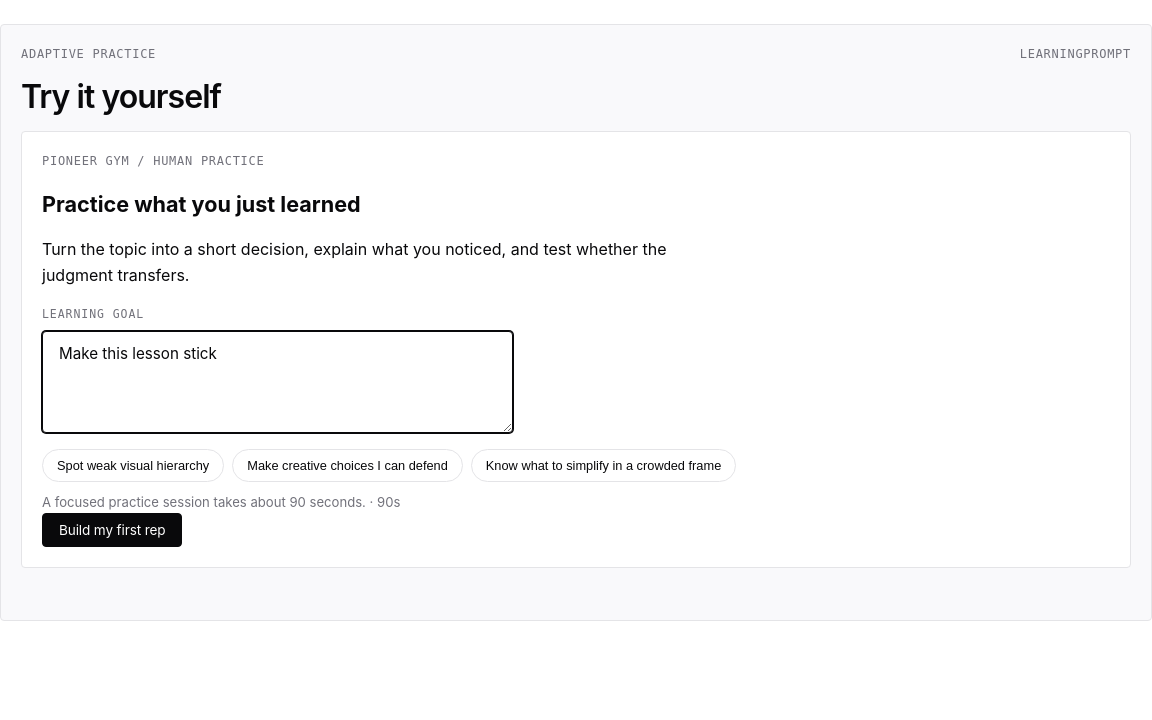
it: NovelGymPanel › renders the canonical SafeExerciseFallback command locally
Expected: the text box labelled "Learning goal" holds "Make this lesson stick", [42,331,513,433]
What coordinates should you click on to do the following:
click the button "Build my first rep"
I would click on:
 (112, 530)
Its box is [42,513,182,547].
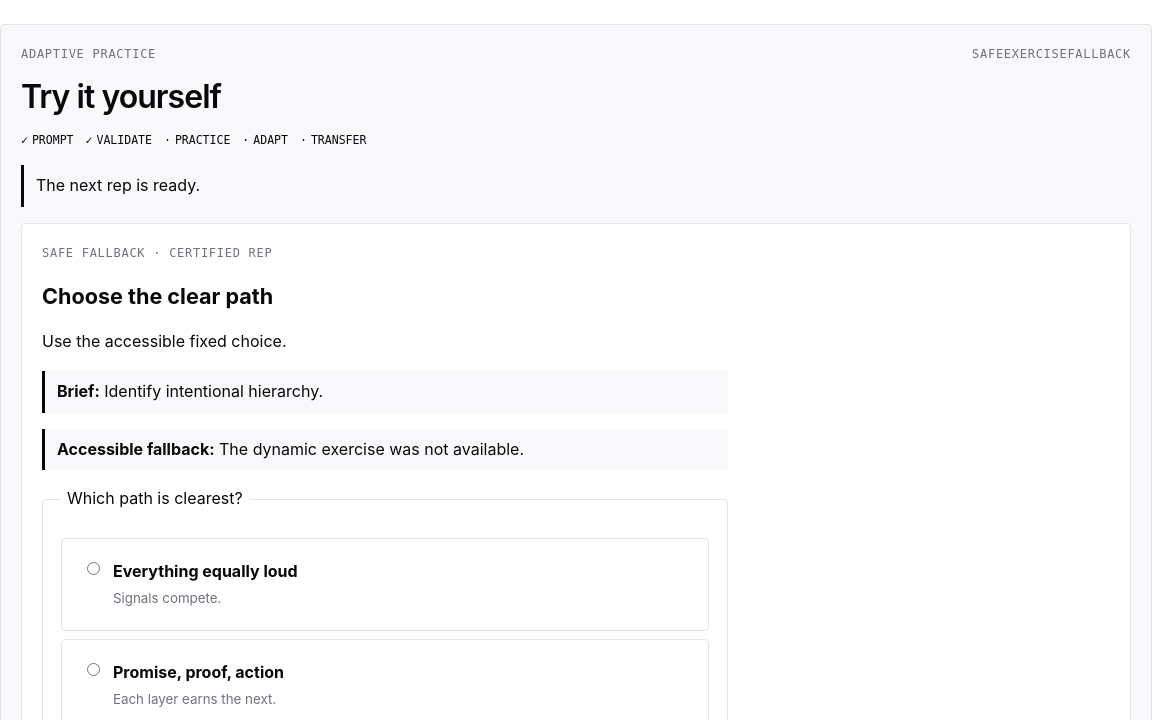
Result: the text with test id "gym-command-name" reads "SafeExerciseFallback" at [972,47,1131,61]
